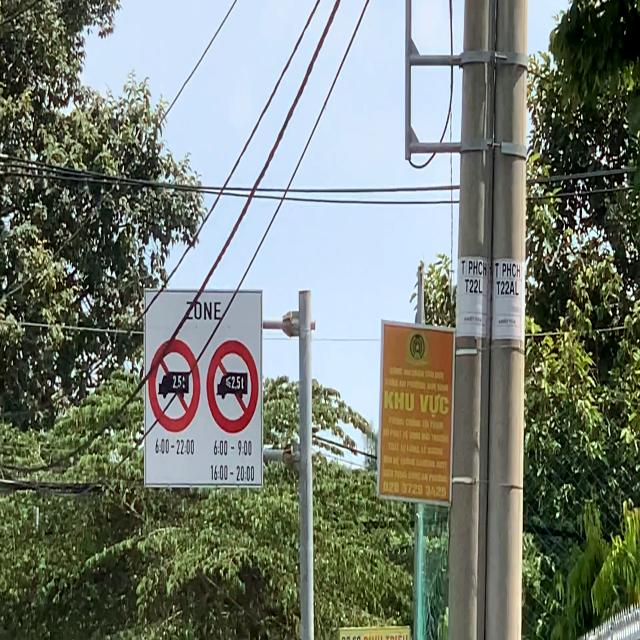P.106b: (203, 330, 261, 444), (148, 336, 201, 434)
